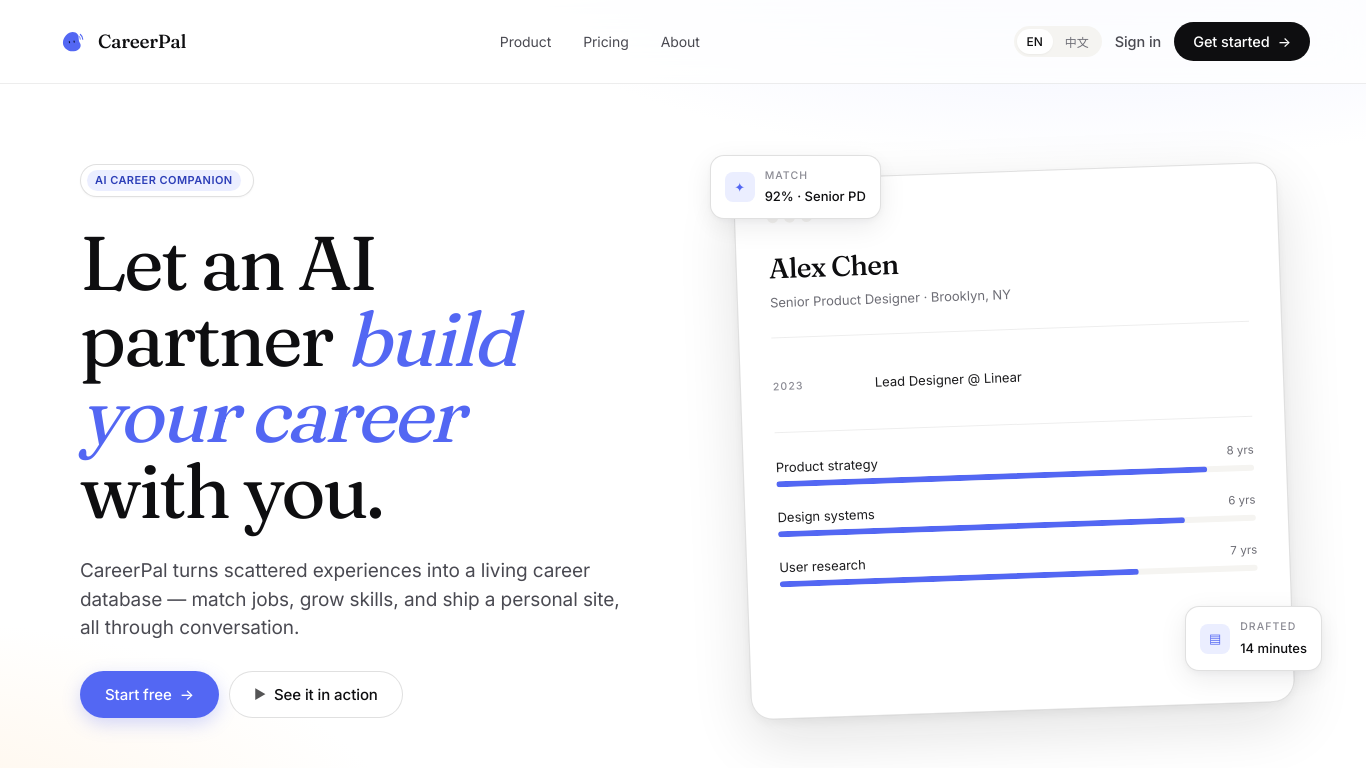
StageApp › loads existing users directly into the design-faithful workspace after login
Click the button "Sign in".
click(1138, 42)  # box left=1110, top=24, right=1166, bottom=59
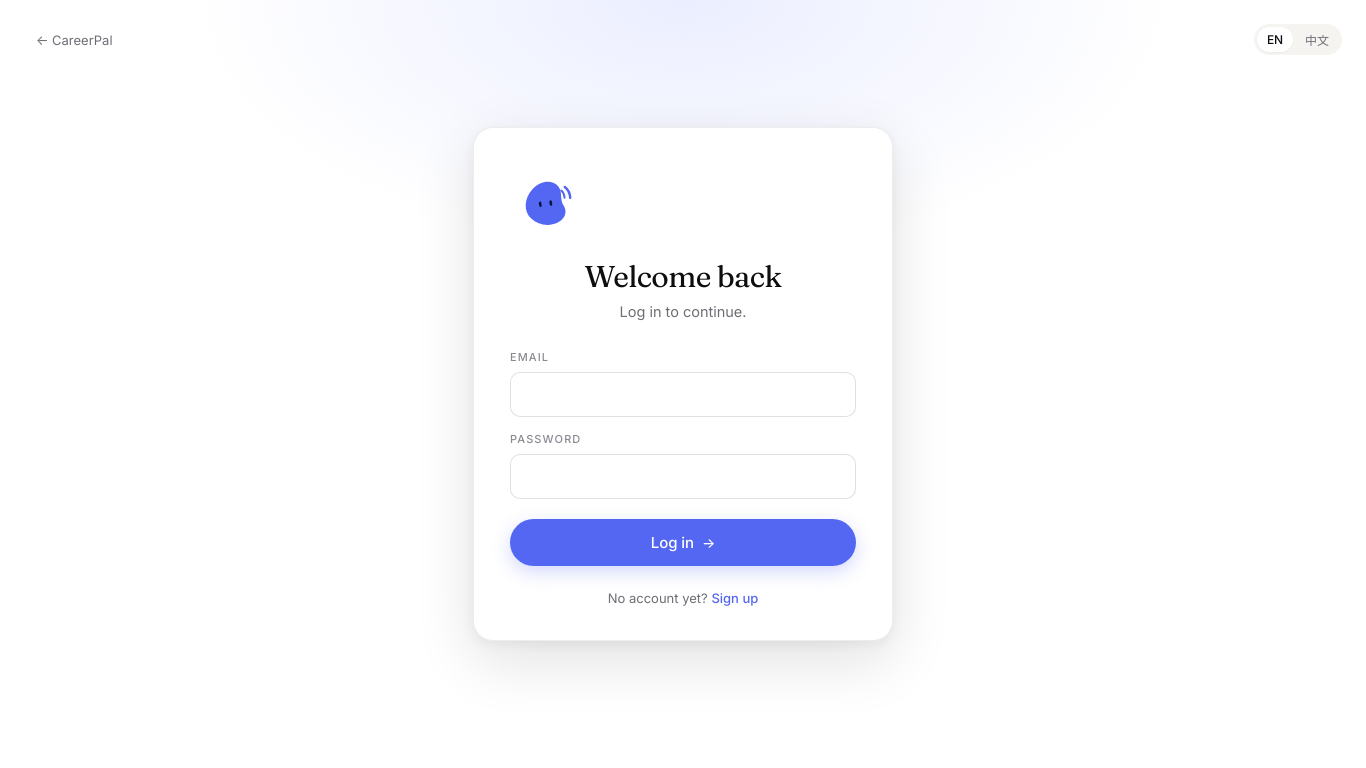
Type "alex@example.com" into the field labelled "Email".
click(683, 394); type("alex@example.com")  # box left=510, top=372, right=856, bottom=416
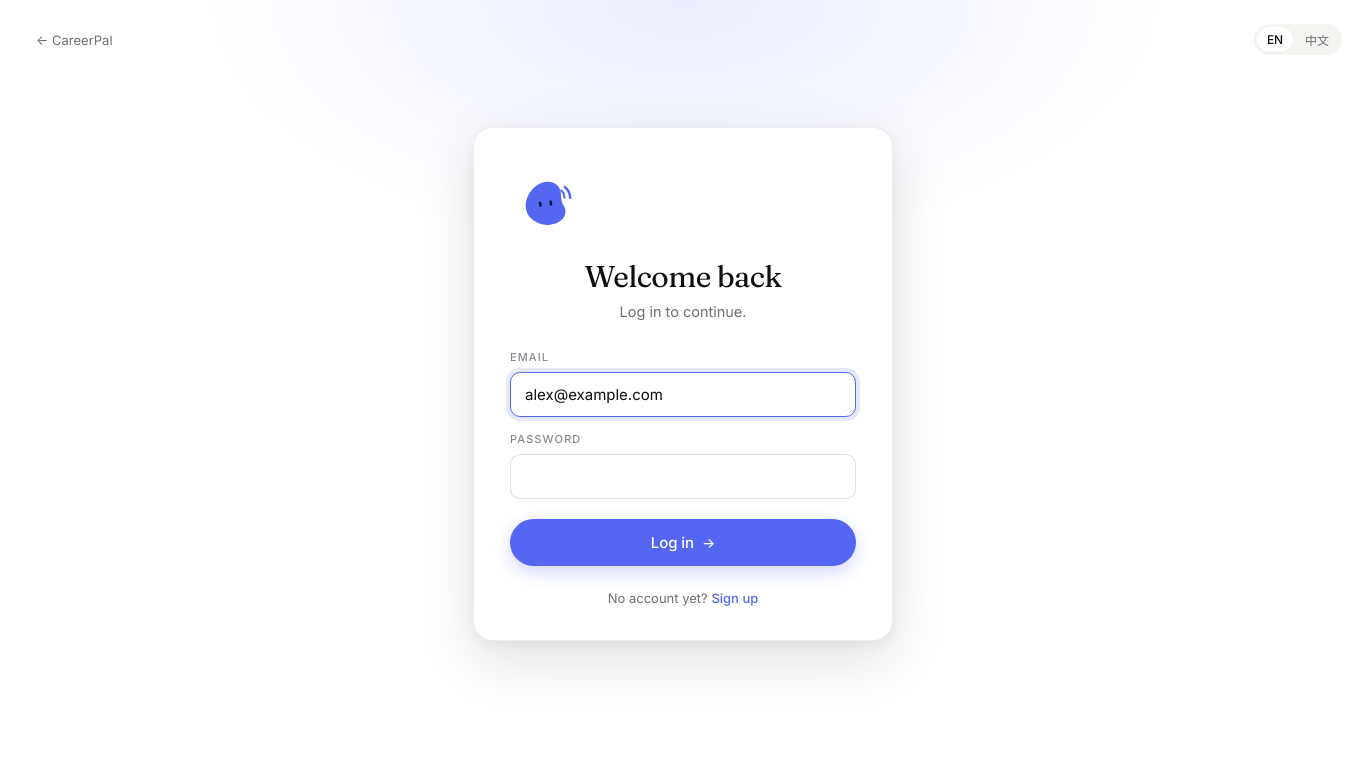
Type "secret123" into the password field labelled "Password".
click(683, 476); type("secret123")  # box left=510, top=454, right=856, bottom=499
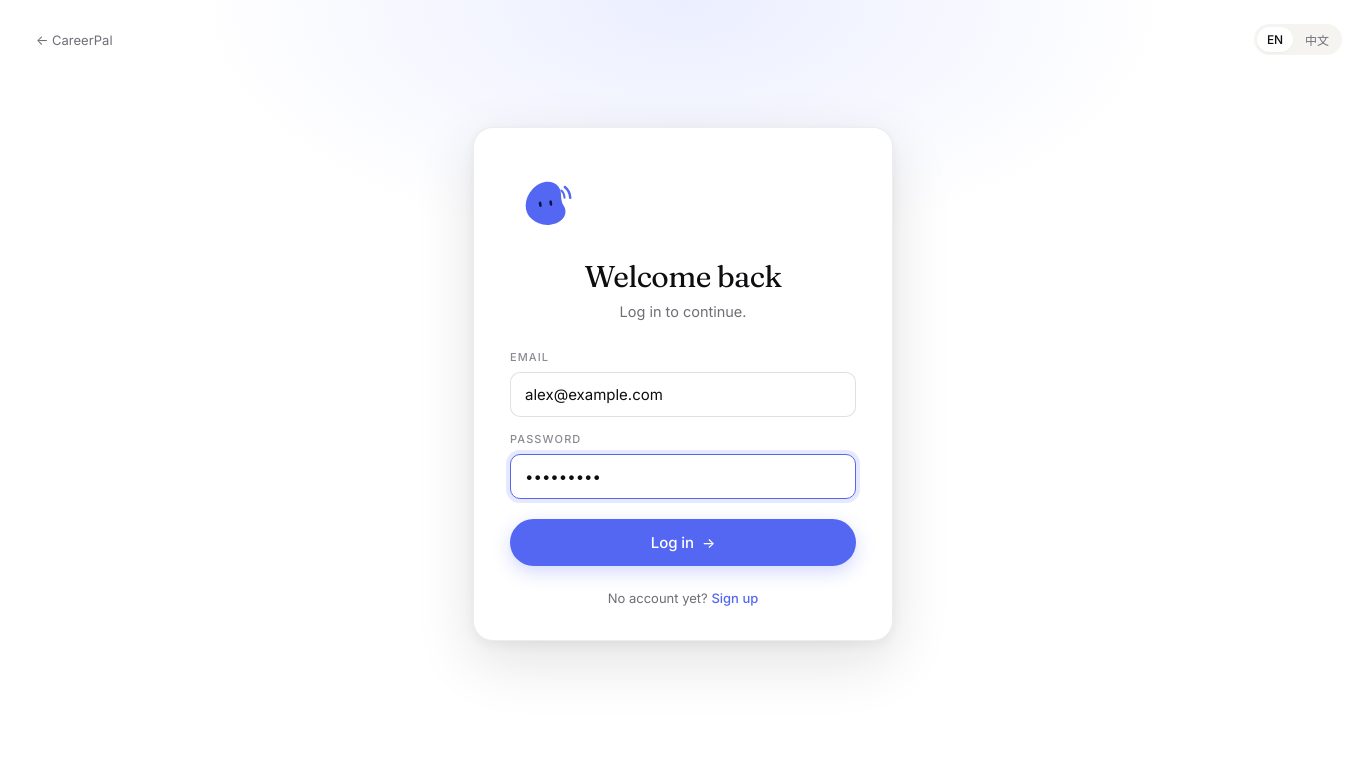
Click the button "Log in →".
click(683, 542)  # box left=510, top=519, right=856, bottom=566
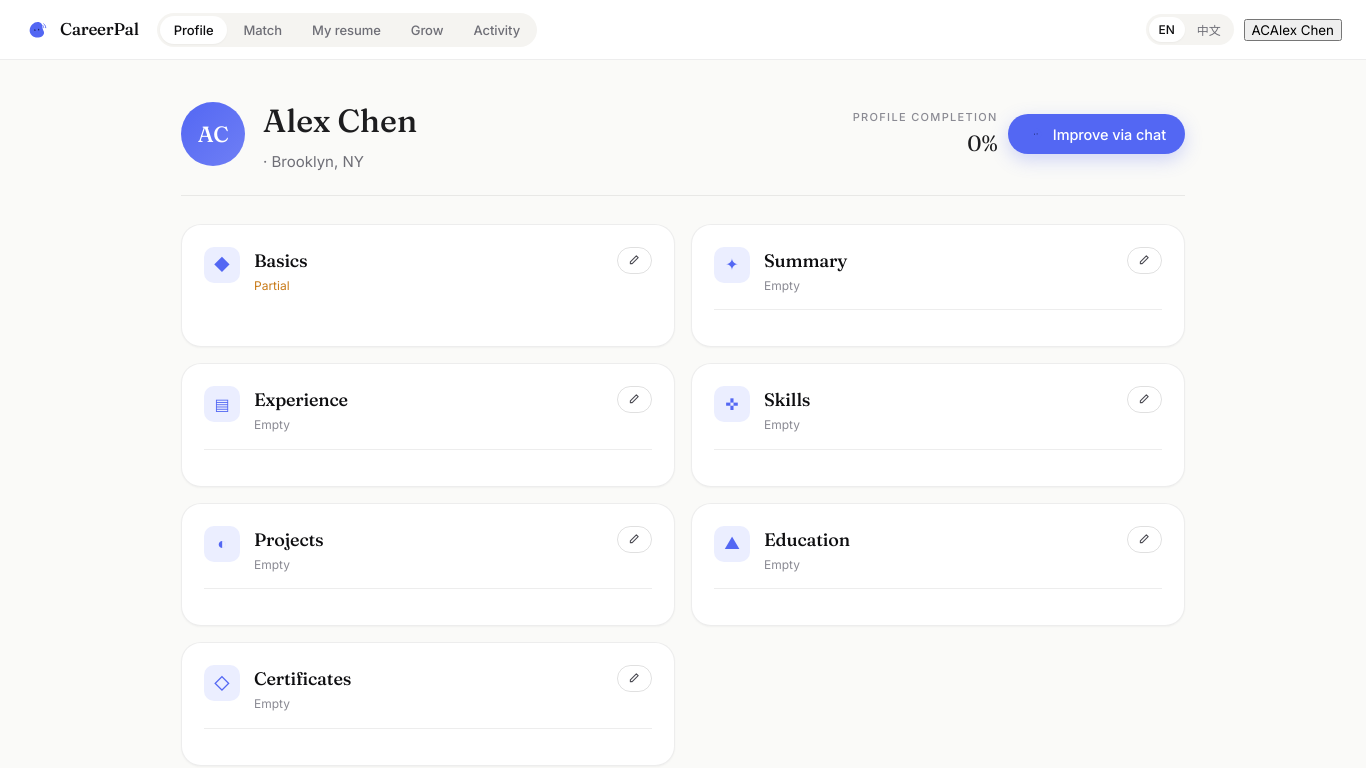
expect the text "Profile completion" is shown: met, box left=853, top=109, right=998, bottom=126
expect the button "My resume" is shown: met, box left=298, top=16, right=395, bottom=44
